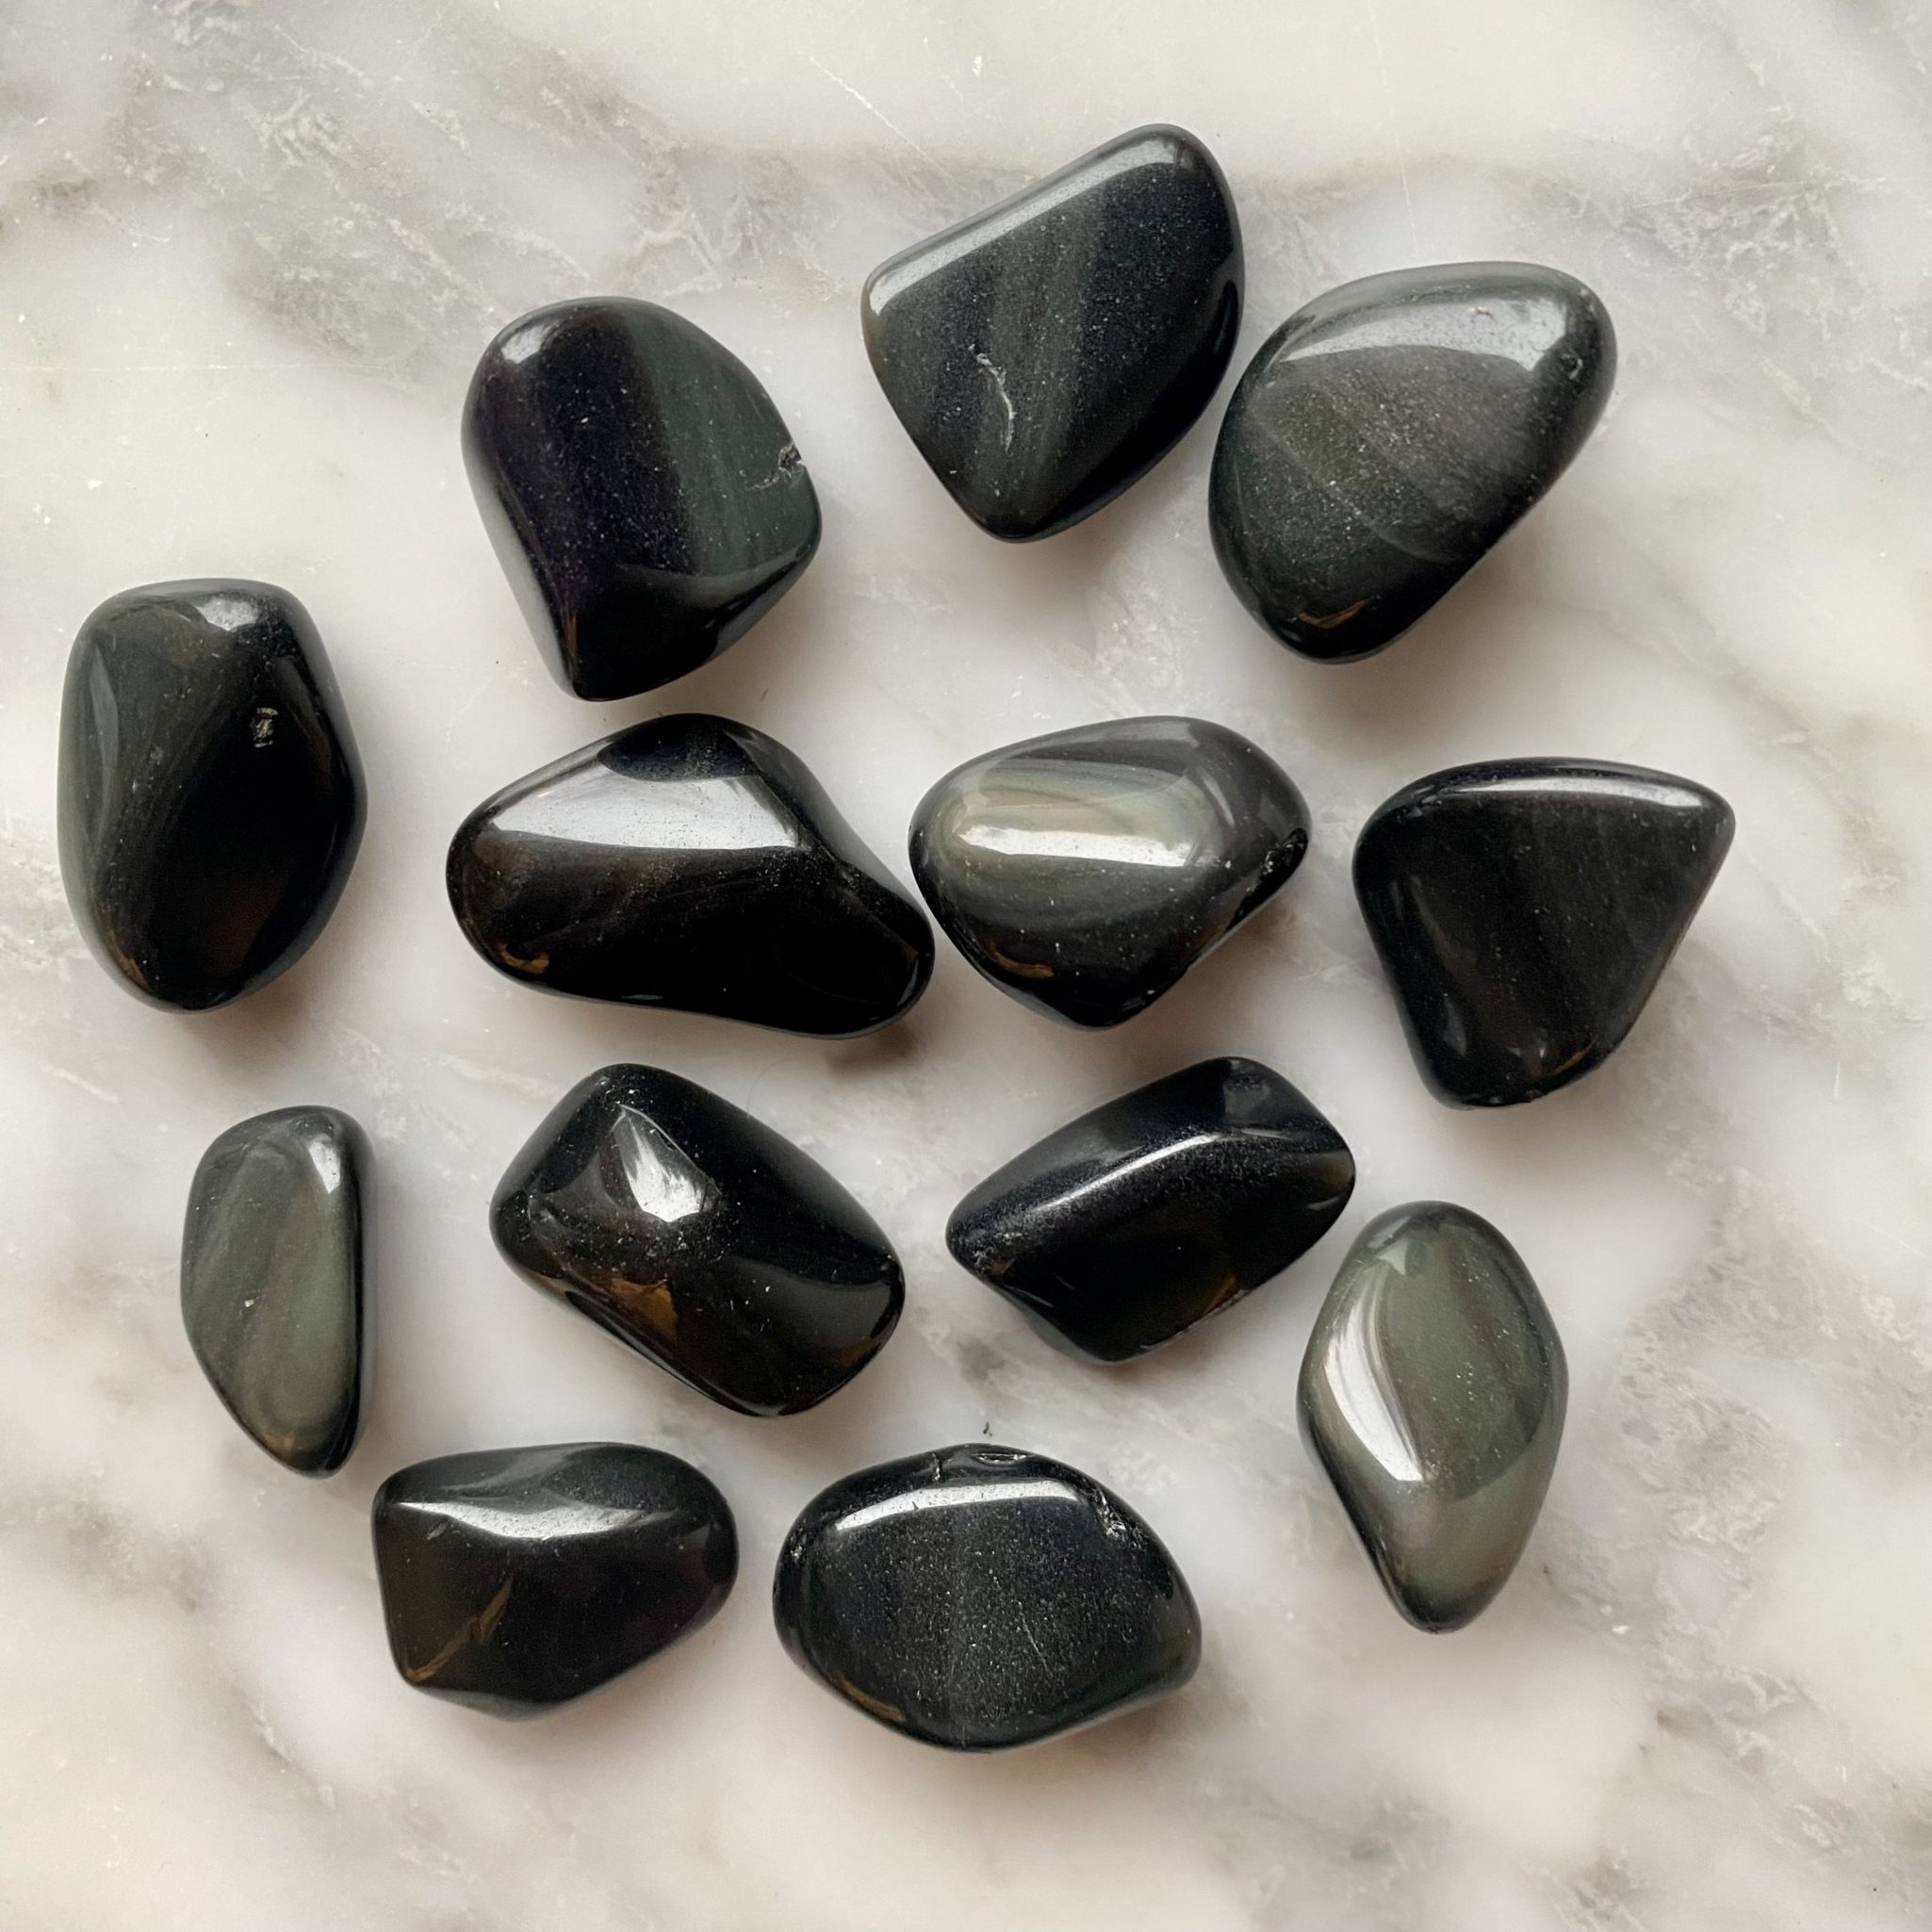Obsidian: (855, 87, 1251, 556), (448, 280, 826, 708), (483, 1065, 911, 1421), (1345, 747, 1750, 1116), (51, 554, 368, 1026), (755, 1451, 1219, 1767), (901, 704, 1316, 1026), (936, 1060, 1359, 1369), (1299, 1191, 1576, 1647), (370, 1438, 731, 1729), (168, 1093, 386, 1486)
